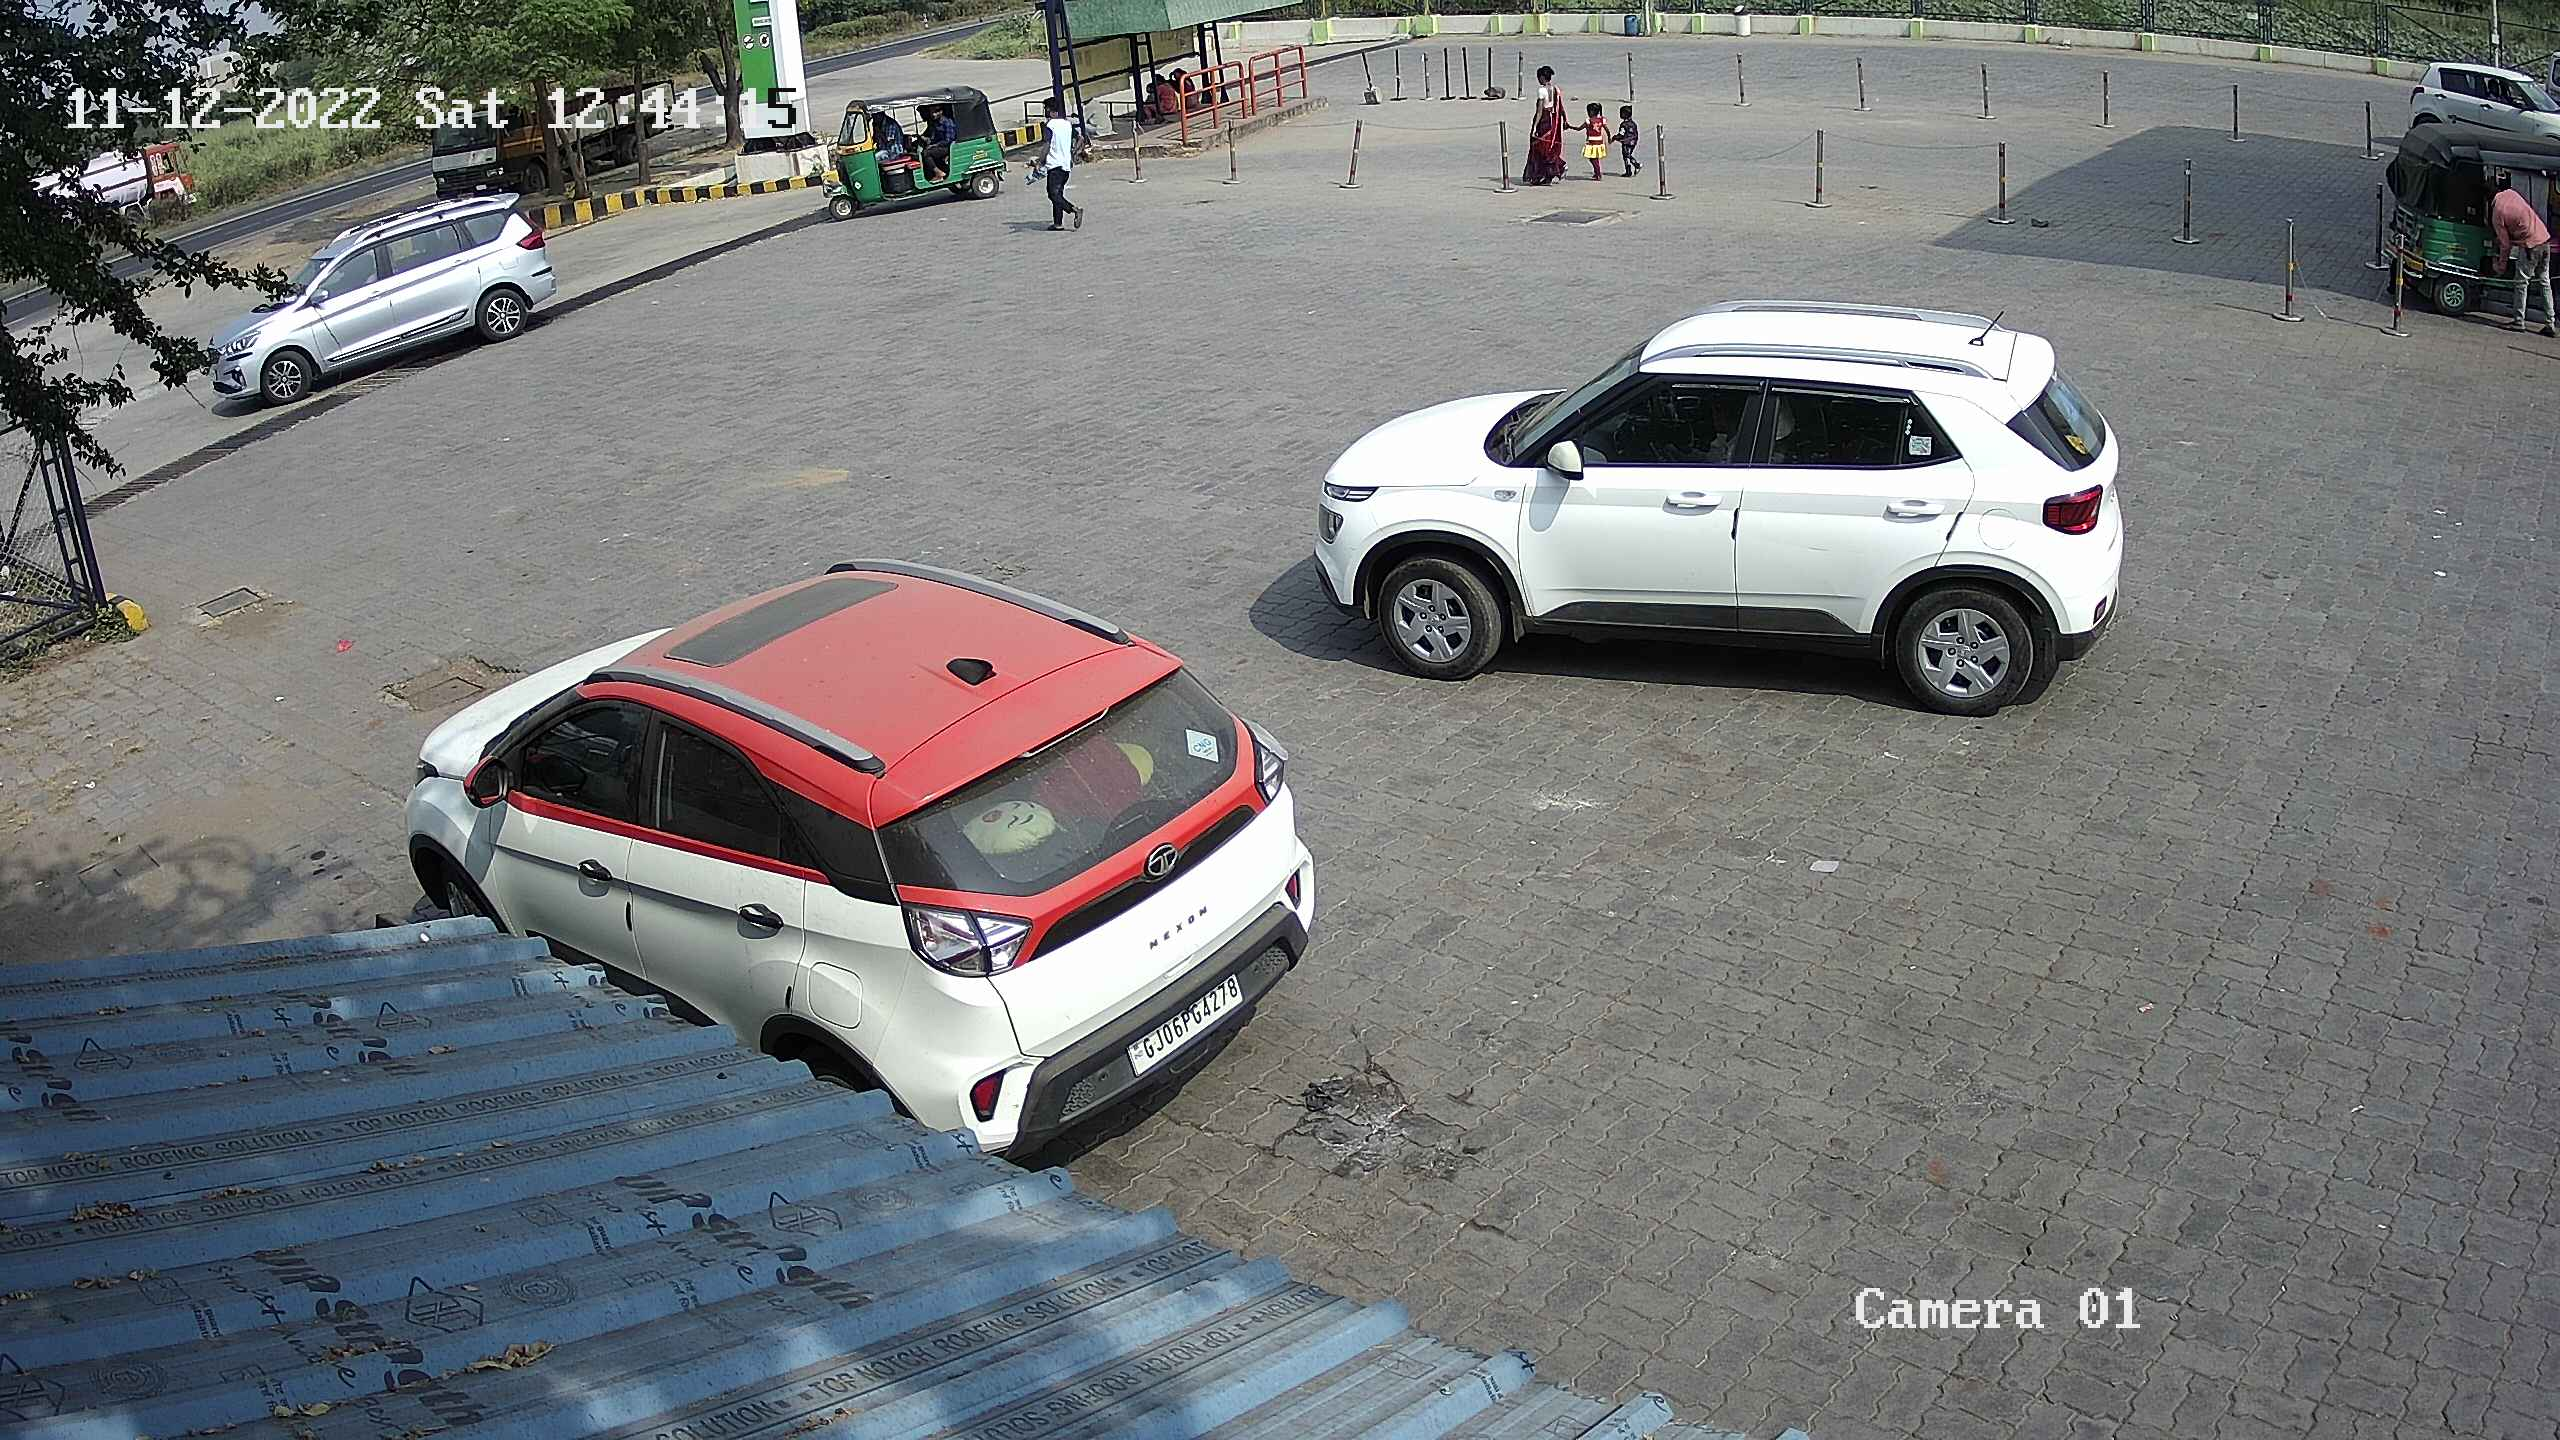Auto: (2360, 105, 2556, 343), (826, 69, 1018, 227)
Car: (389, 543, 1336, 1175), (1322, 288, 2136, 721), (193, 176, 570, 417), (2404, 53, 2558, 162)
HMV: (7, 113, 199, 258), (411, 62, 556, 200)
